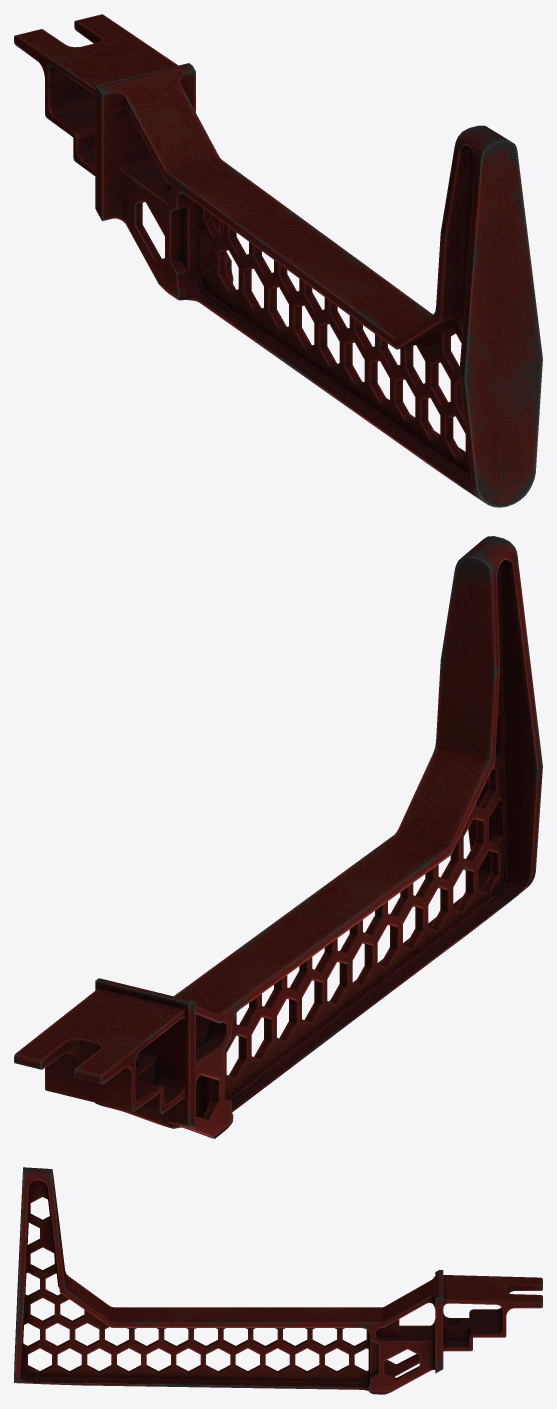
The picture shows the model from 3 angles, top to bottom: view 1: azimuth 30°, elevation 25°; view 2: azimuth 150°, elevation 25°; view 3: azimuth 270°, elevation 25°; orthographic projection. The views are drawn at different scales.
Parts seen in each view (by area): view 1: TW_5e217ba4c1434648c13568cd_PZ_Import; view 2: TW_5e217ba4c1434648c13568cd_PZ_Import; view 3: TW_5e217ba4c1434648c13568cd_PZ_Import.
Boxes of the visible parts, x1,y1,x2,y2 form: TW_5e217ba4c1434648c13568cd_PZ_Import: (14,14,542,507); TW_5e217ba4c1434648c13568cd_PZ_Import: (14,536,542,1138); TW_5e217ba4c1434648c13568cd_PZ_Import: (14,1167,542,1394).
Size of the model in its own units: 0.0199 by 0.1647 by 0.0751.
Materials: 1 (1 with a texture image).
